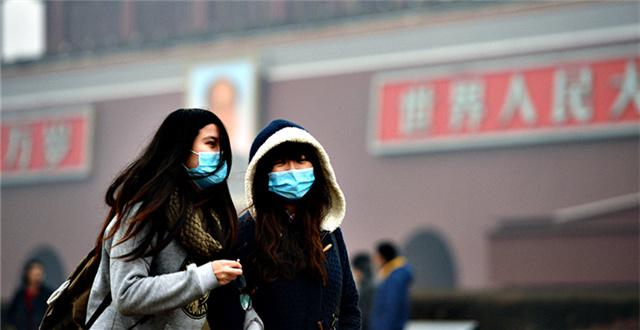OK: (188, 137, 238, 187)
WRONG: (270, 149, 318, 197)
